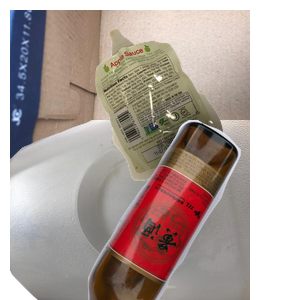cardboard: (10, 10, 250, 190)
glass: (85, 120, 300, 300)
plastic: (10, 120, 250, 300)
trash: (93, 26, 300, 200)
